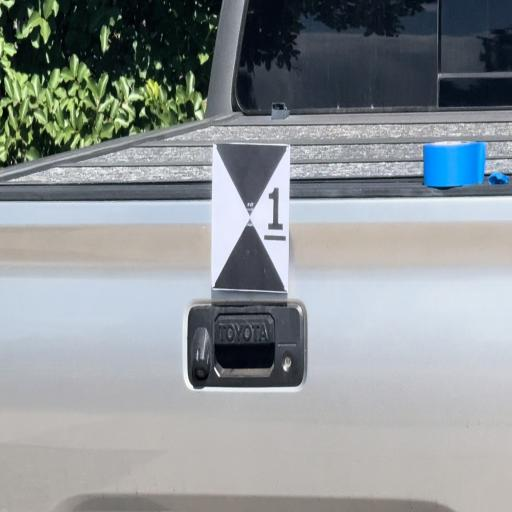target1: (214, 144, 288, 292)
